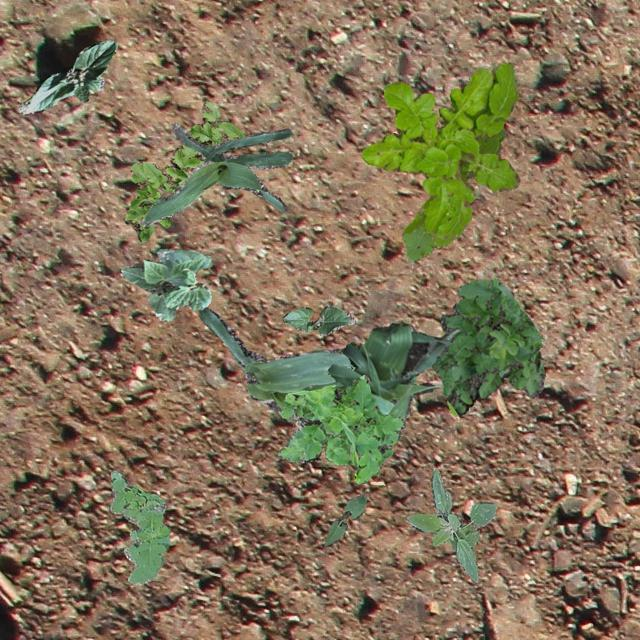crop: (198, 306, 414, 412), (140, 122, 292, 225), (327, 322, 459, 416), (18, 40, 116, 112), (120, 248, 210, 320), (282, 304, 354, 334), (324, 494, 364, 546)
weed: (362, 62, 518, 246), (123, 100, 244, 240), (430, 276, 544, 414), (400, 127, 504, 260), (278, 373, 404, 482), (406, 468, 496, 582), (108, 470, 168, 582)
